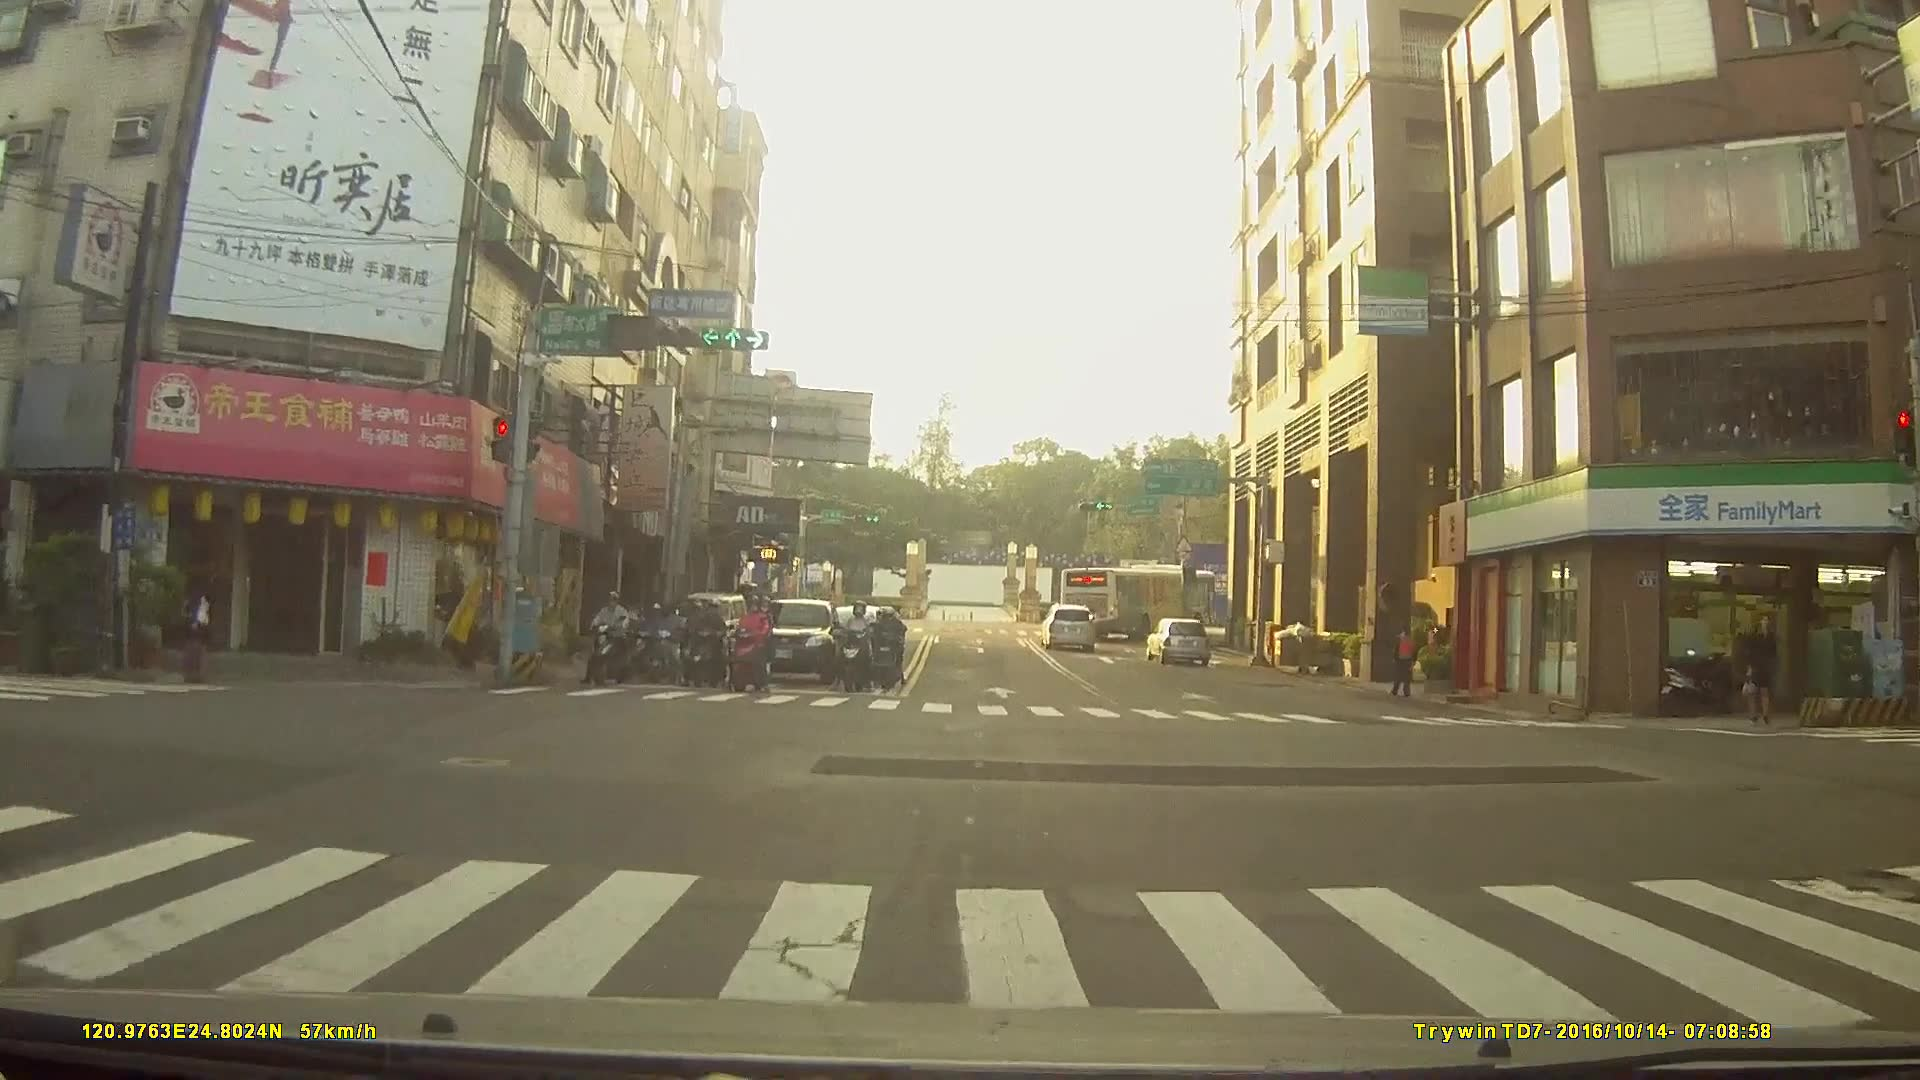pedestrian: (172, 571, 219, 692), (1743, 610, 1785, 725), (1388, 625, 1420, 696)
rider: (724, 586, 777, 692), (588, 584, 631, 682), (836, 598, 876, 691), (634, 601, 675, 684), (871, 607, 910, 690), (685, 600, 721, 686)
vehicle: (1056, 560, 1215, 634), (743, 592, 841, 681), (1143, 613, 1212, 661), (1040, 600, 1098, 650)
